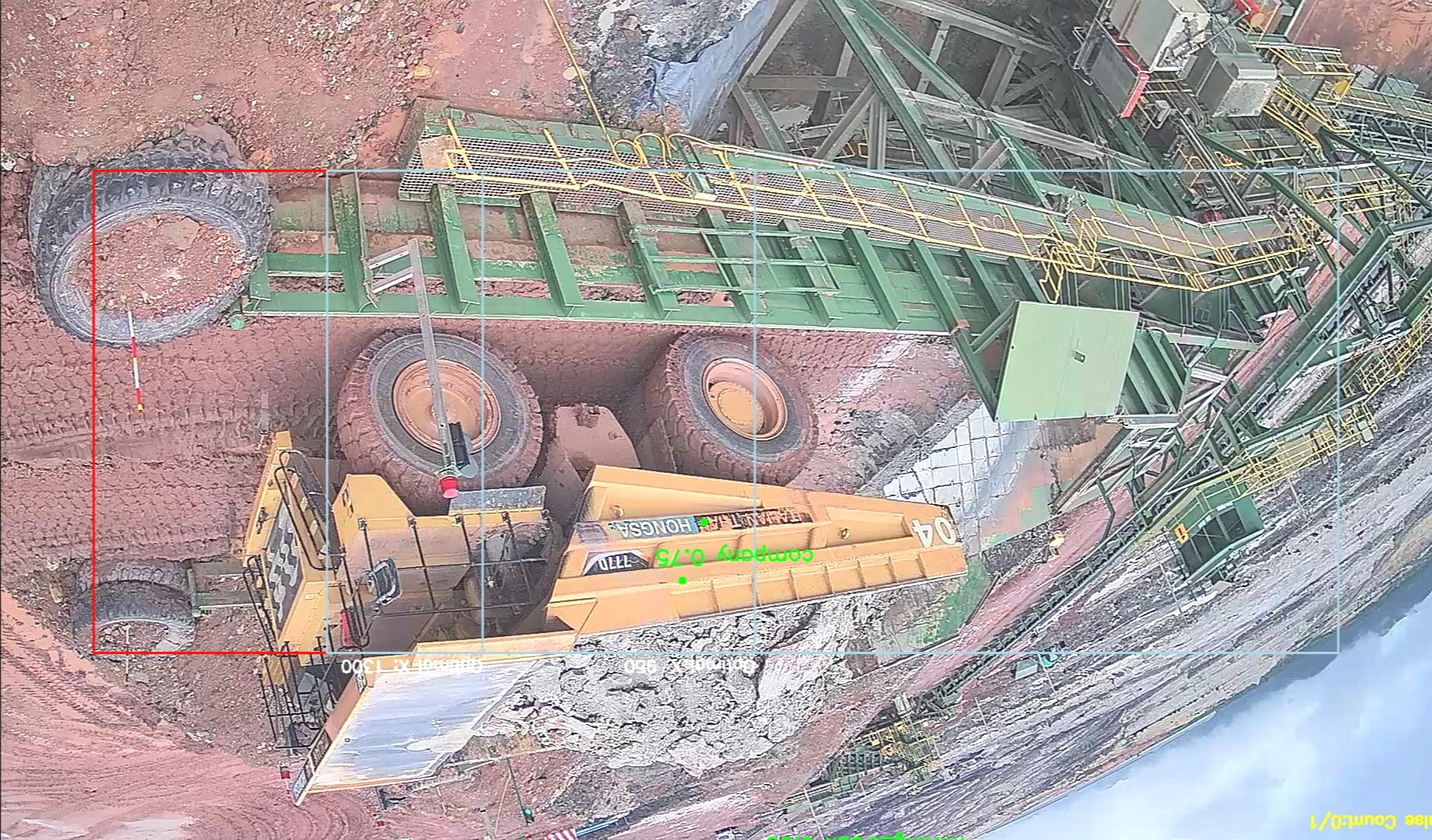company: (584, 498, 825, 547)
full_load: (543, 611, 854, 778)
mining_truck: (220, 339, 979, 807)
tail_number: (896, 500, 962, 561)
truck_size: (582, 543, 662, 584)
